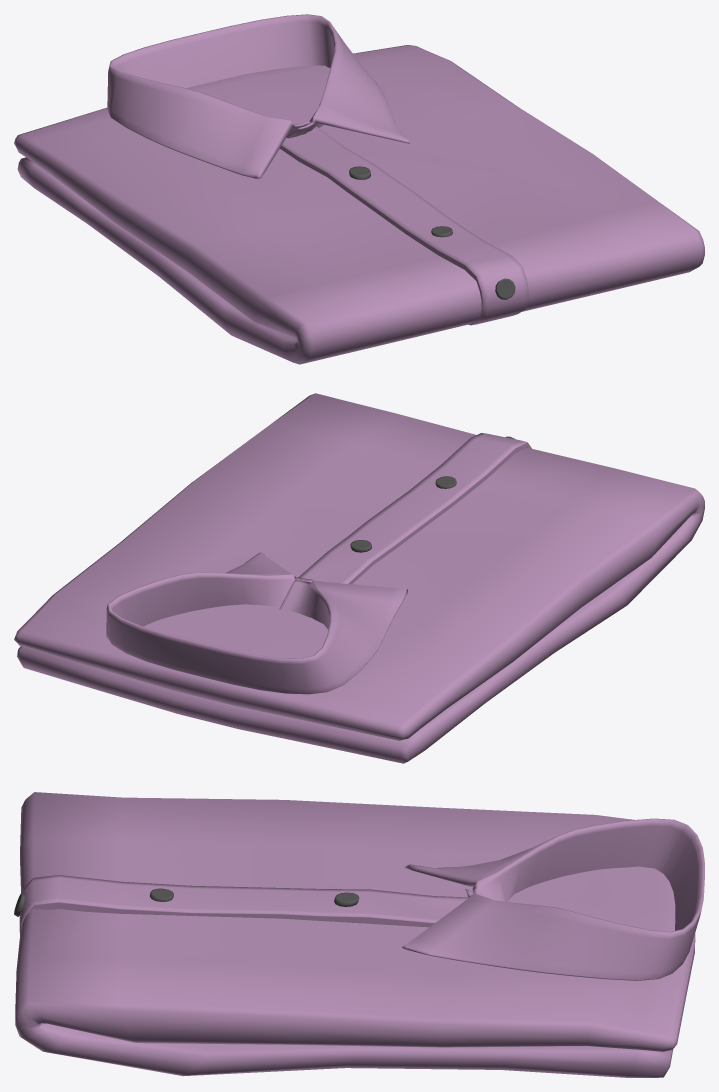
File: Folded_Shirt19.fbx
3 views of the same model, one above another, from view 1: azimuth 30°, elevation 25°; view 2: azimuth 150°, elevation 25°; view 3: azimuth 270°, elevation 25° (orthographic). The views are drawn at different scales.
Parts seen in each view (by area): view 1: Folded_Shirt19; view 2: Folded_Shirt19; view 3: Folded_Shirt19.
Part boxes in pixels (bbox=[...]): Folded_Shirt19: bbox=[14, 14, 704, 364]; Folded_Shirt19: bbox=[14, 393, 704, 763]; Folded_Shirt19: bbox=[14, 792, 704, 1077].
Size of the model in its own units: 24.85 by 5.51 by 33.24.
